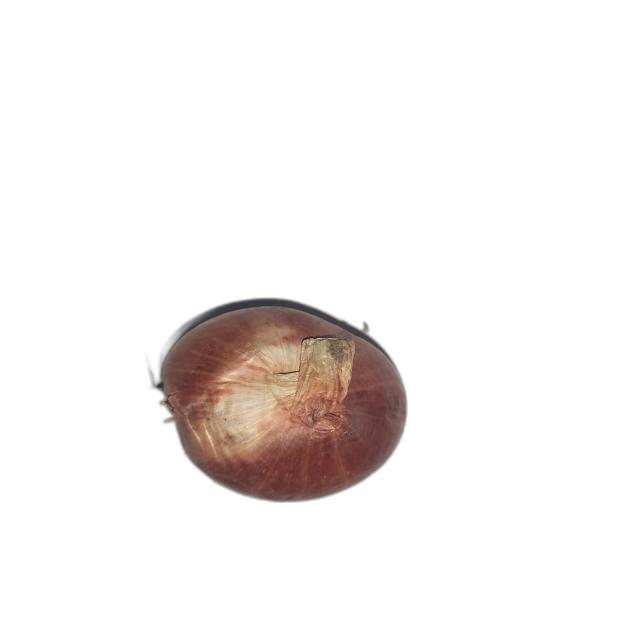onion: (160, 306, 409, 503)
